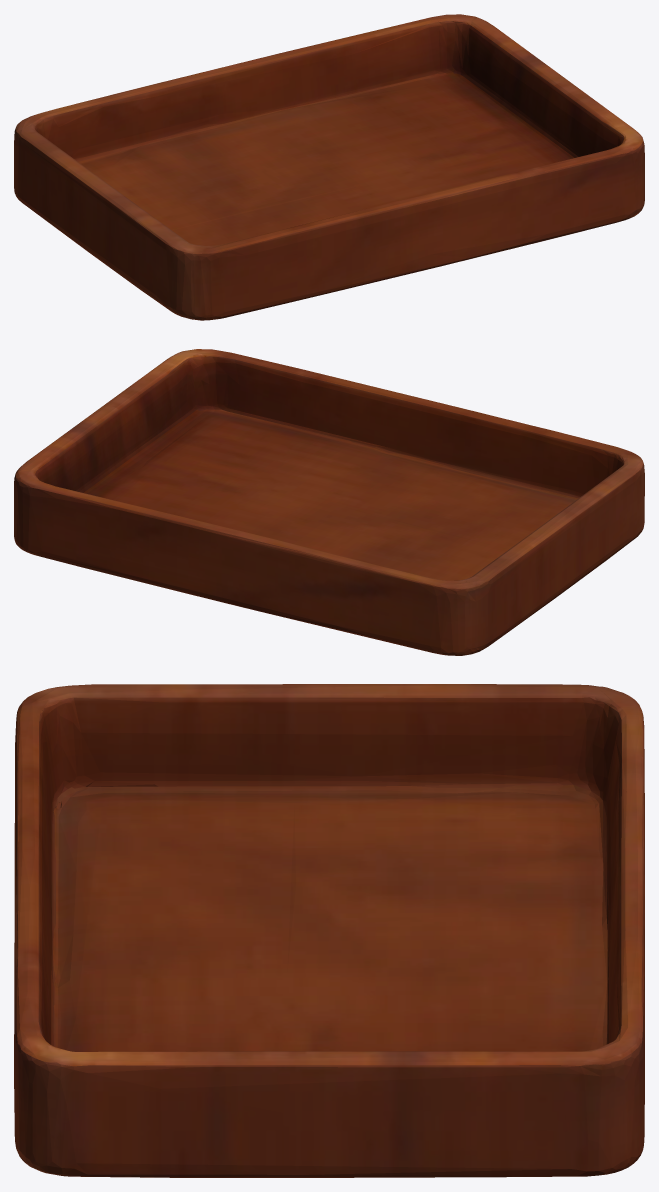
Rendered from p_shots.glb.
3 renders of one model, top to bottom at view 1: azimuth 30°, elevation 25°; view 2: azimuth 150°, elevation 25°; view 3: azimuth 270°, elevation 25°, orthographic. The views are drawn at different scales.
Parts seen in each view (by area): view 1: geometry_0; view 2: geometry_0; view 3: geometry_0.
Boxes of the visible parts, x1,y1,x2,y2 form: geometry_0: (14, 14, 644, 320); geometry_0: (14, 349, 644, 655); geometry_0: (14, 684, 644, 1177).
Size of the model in its own units: 0.9999 by 0.1482 by 0.6956.
1 material, 1 textured.
